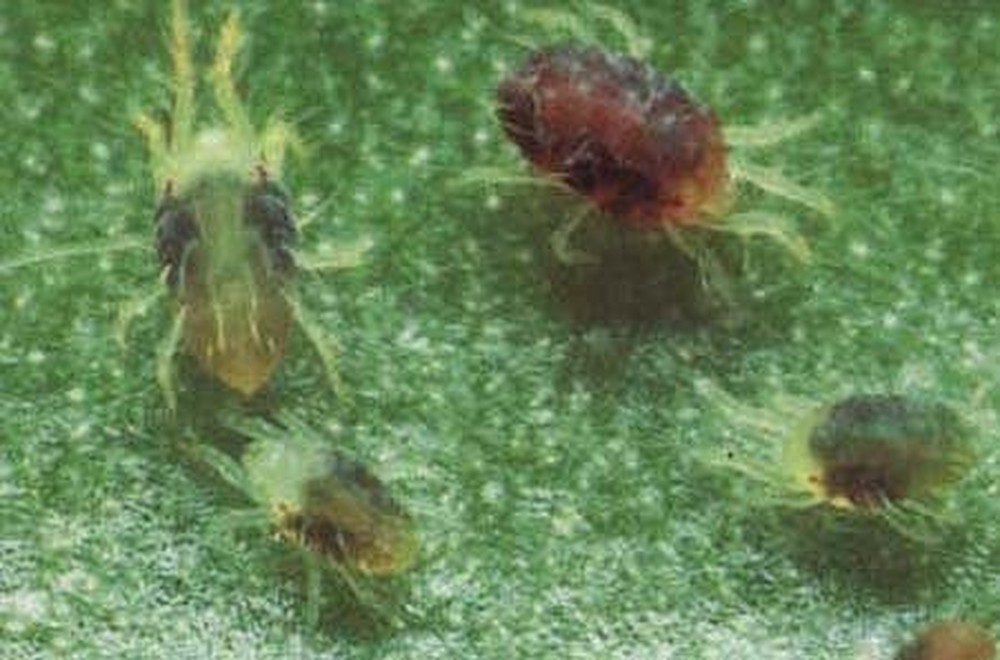Aracnido Rojo: (468, 25, 865, 331), (122, 6, 379, 422), (187, 411, 483, 639), (674, 370, 994, 557)
